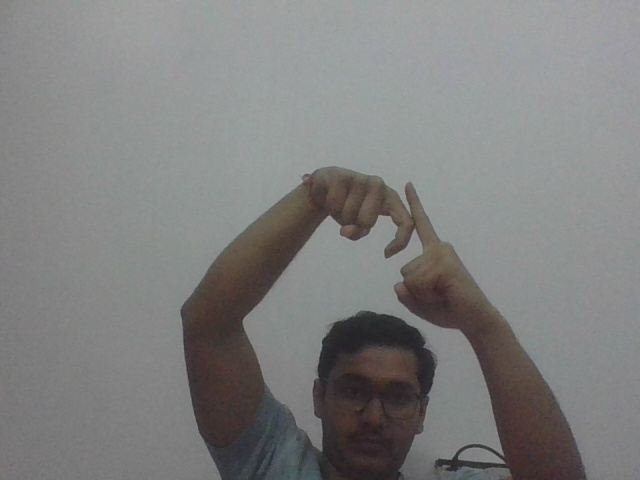K: (314, 158, 491, 322)
